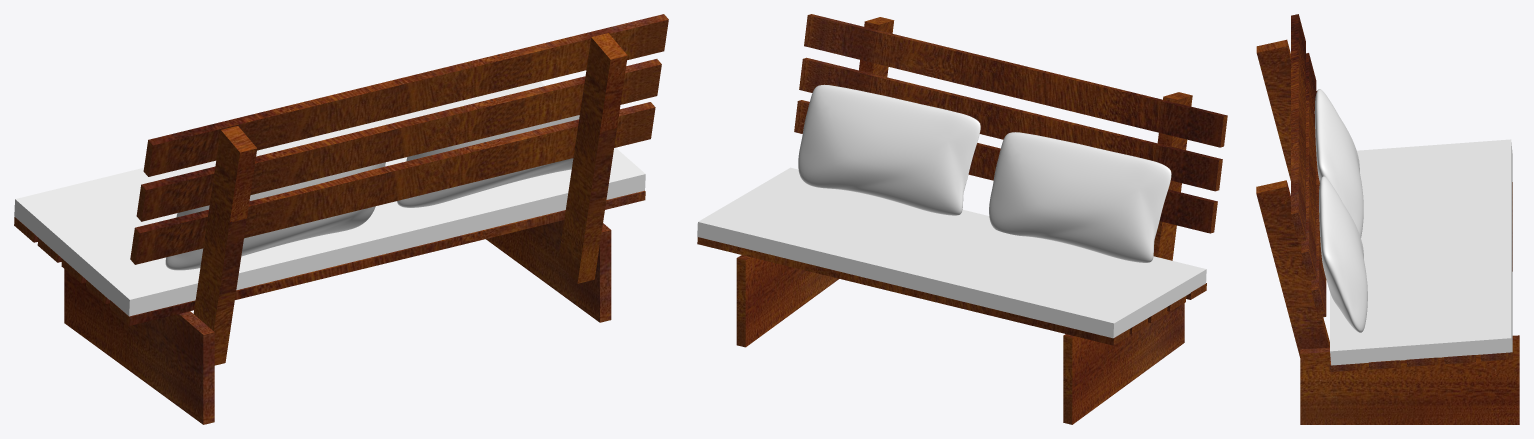
The picture shows the model from 3 angles, left to right: view 1: azimuth 30°, elevation 25°; view 2: azimuth 150°, elevation 25°; view 3: azimuth 270°, elevation 25°; orthographic projection. The views are drawn at different scales.
Visible parts, largest first — view 1: mesh1_mesh1-geometry, mesh17_mesh17-geometry, mesh15_mesh15-geometry, mesh19_mesh19-geometry, mesh23_mesh23-geometry, mesh25_mesh25-geometry, mesh8_mesh8-geometry, mesh26_mesh26-geometry, mesh21_mesh21-geometry, mesh9_mesh9-geometry; view 2: mesh1_mesh1-geometry, mesh26_mesh26-geometry, mesh17_mesh17-geometry, mesh15_mesh15-geometry, mesh23_mesh23-geometry, mesh21_mesh21-geometry, mesh13_mesh13-geometry, mesh19_mesh19-geometry, mesh8_mesh8-geometry, mesh25_mesh25-geometry; view 3: mesh1_mesh1-geometry, mesh21_mesh21-geometry, mesh26_mesh26-geometry, mesh25_mesh25-geometry, mesh17_mesh17-geometry, mesh3_mesh3-geometry, mesh8_mesh8-geometry, mesh15_mesh15-geometry, mesh19_mesh19-geometry, mesh11_mesh11-geometry.
Part boxes in pixels (x1,y1,x2,y2): mesh1_mesh1-geometry: [14, 81, 645, 316]; mesh17_mesh17-geometry: [143, 14, 668, 176]; mesh15_mesh15-geometry: [136, 59, 661, 221]; mesh19_mesh19-geometry: [130, 102, 655, 264]; mesh23_mesh23-geometry: [64, 269, 214, 424]; mesh25_mesh25-geometry: [558, 33, 627, 283]; mesh8_mesh8-geometry: [193, 126, 257, 365]; mesh26_mesh26-geometry: [165, 115, 579, 270]; mesh21_mesh21-geometry: [486, 220, 611, 322]; mesh9_mesh9-geometry: [109, 190, 645, 325]; mesh1_mesh1-geometry: [697, 167, 1206, 338]; mesh26_mesh26-geometry: [798, 84, 1171, 262]; mesh17_mesh17-geometry: [804, 14, 1227, 147]; mesh15_mesh15-geometry: [799, 57, 1222, 191]; mesh23_mesh23-geometry: [1063, 303, 1184, 424]; mesh21_mesh21-geometry: [736, 255, 839, 347]; mesh13_mesh13-geometry: [697, 237, 1129, 345]; mesh19_mesh19-geometry: [794, 100, 1217, 233]; mesh8_mesh8-geometry: [1153, 92, 1192, 260]; mesh25_mesh25-geometry: [859, 17, 894, 77]; mesh1_mesh1-geometry: [1330, 139, 1512, 351]; mesh21_mesh21-geometry: [1300, 335, 1519, 424]; mesh26_mesh26-geometry: [1314, 89, 1367, 332]; mesh25_mesh25-geometry: [1256, 180, 1329, 357]; mesh17_mesh17-geometry: [1291, 14, 1305, 241]; mesh3_mesh3-geometry: [1330, 338, 1512, 365]; mesh8_mesh8-geometry: [1256, 39, 1290, 180]; mesh15_mesh15-geometry: [1301, 53, 1316, 280]; mesh19_mesh19-geometry: [1311, 91, 1326, 318]; mesh11_mesh11-geometry: [1368, 360, 1400, 369].
Size of the model in its own units: 0.7879 by 0.4318 by 0.4391.
